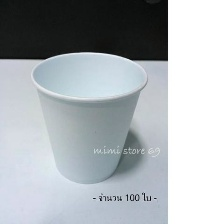paper_cup: (27, 48, 152, 187)
